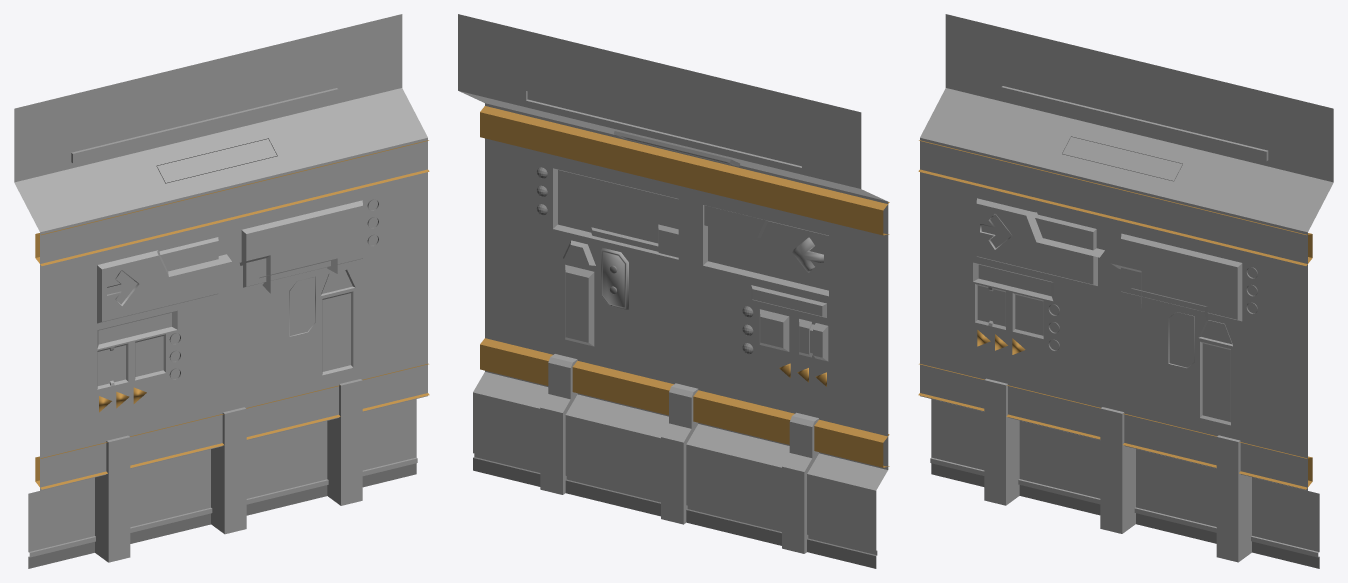
File: wall_4.002_lev3.glb
3 renders of one model, left to right at view 1: azimuth 30°, elevation 25°; view 2: azimuth 150°, elevation 25°; view 3: azimuth 330°, elevation 25°, orthographic. The views are drawn at different scales.
Visible parts, largest first — view 1: wall_4.002_lev3; view 2: wall_4.002_lev3; view 3: wall_4.002_lev3.
Boxes of the visible parts, x1=… form: wall_4.002_lev3: x1=14, y1=14, x2=429, y2=568; wall_4.002_lev3: x1=458, y1=14, x2=889, y2=568; wall_4.002_lev3: x1=918, y1=14, x2=1333, y2=568.
Size of the model in its own units: 4 by 4.43 by 0.5726.
